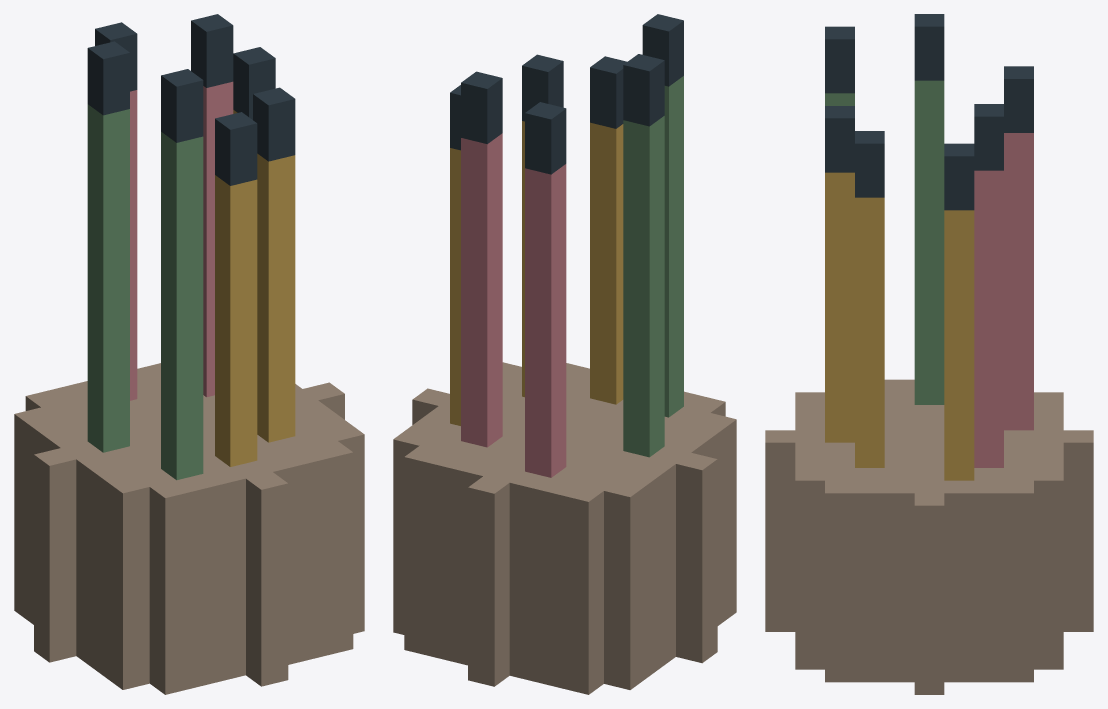
Rendered from legal-19.glb.
3 renders of one model, left to right at view 1: azimuth 30°, elevation 25°; view 2: azimuth 150°, elevation 25°; view 3: azimuth 270°, elevation 25°, orthographic. The views are drawn at different scales.
Visible parts, largest first — view 1: Ink pen; view 2: Ink pen; view 3: Ink pen.
Boxes of the visible parts, bbox=[...] form: Ink pen: bbox=[14, 14, 364, 694]; Ink pen: bbox=[393, 14, 736, 694]; Ink pen: bbox=[765, 14, 1093, 694].
Size of the model in its own units: 0.88 by 1.68 by 0.88.
